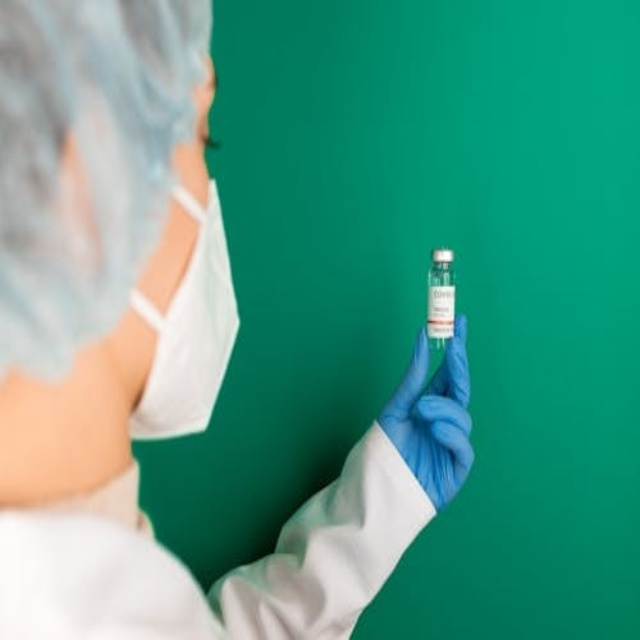Guantes: (377, 315, 474, 514)
Mascara: (128, 169, 242, 440)
Sin_gafas: (140, 73, 234, 177)
